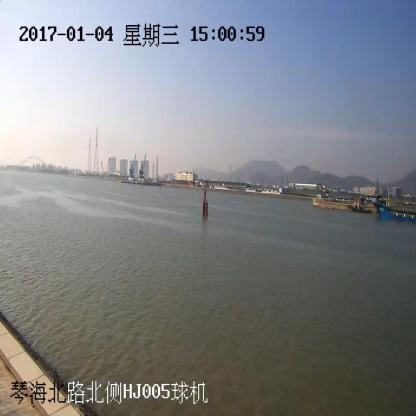Bulk Carrier: (311, 184, 373, 214), (372, 193, 415, 224)
